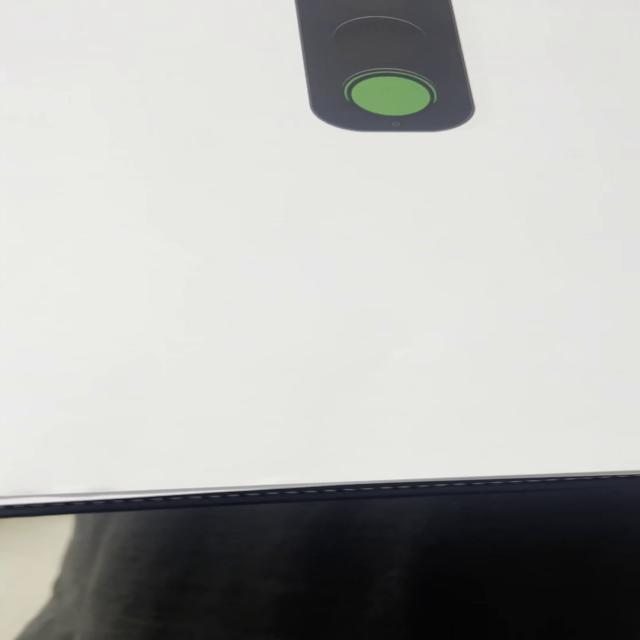green: (293, 1, 479, 132)
